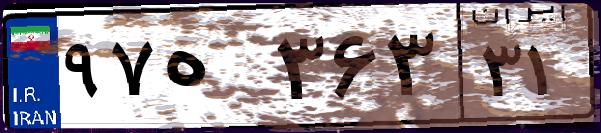1: (525, 38, 570, 115)
3: (270, 28, 330, 110), (385, 28, 445, 110), (475, 38, 525, 113)
6: (330, 28, 385, 110)
7: (110, 28, 158, 98)
9: (57, 26, 110, 100)
ه: (158, 20, 270, 120)
